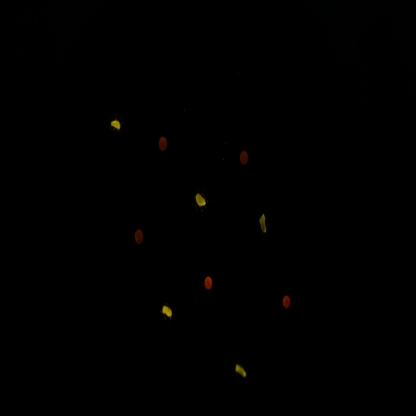PP: (223, 345, 258, 393), (187, 173, 217, 227), (250, 197, 279, 252), (156, 284, 181, 338), (105, 101, 130, 150)
PS: (197, 264, 221, 308), (129, 216, 152, 259), (233, 140, 257, 178), (276, 280, 297, 323), (155, 128, 175, 159)
